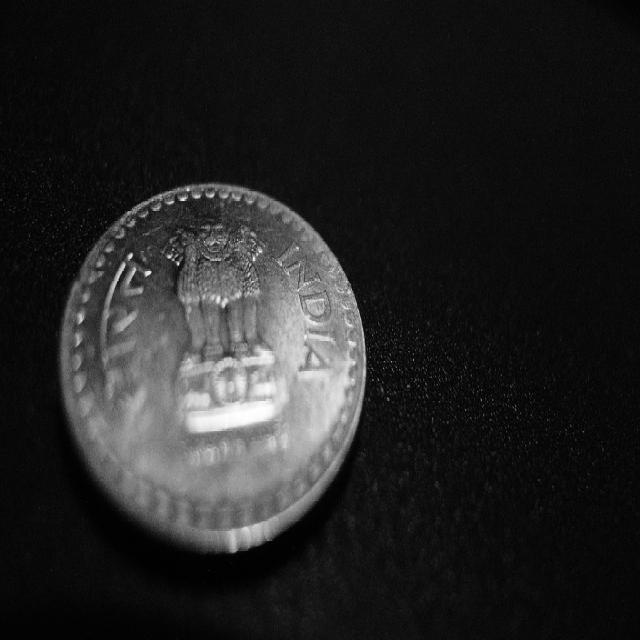Coin: (56, 188, 371, 541)
